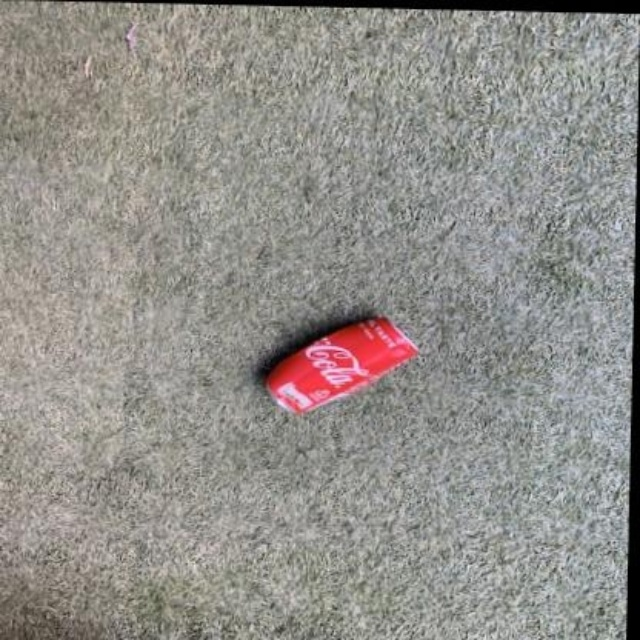trash: (266, 317, 417, 412)
